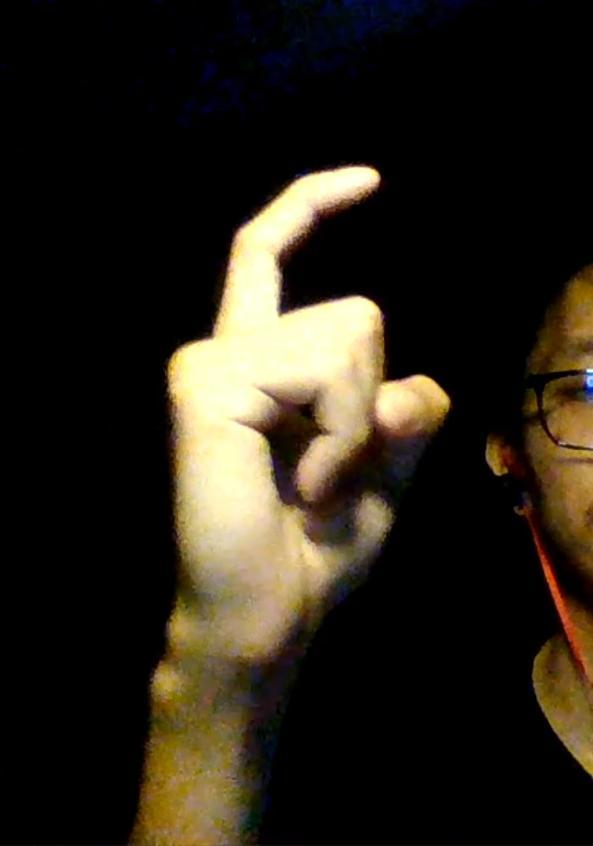x: (165, 166, 454, 667)
